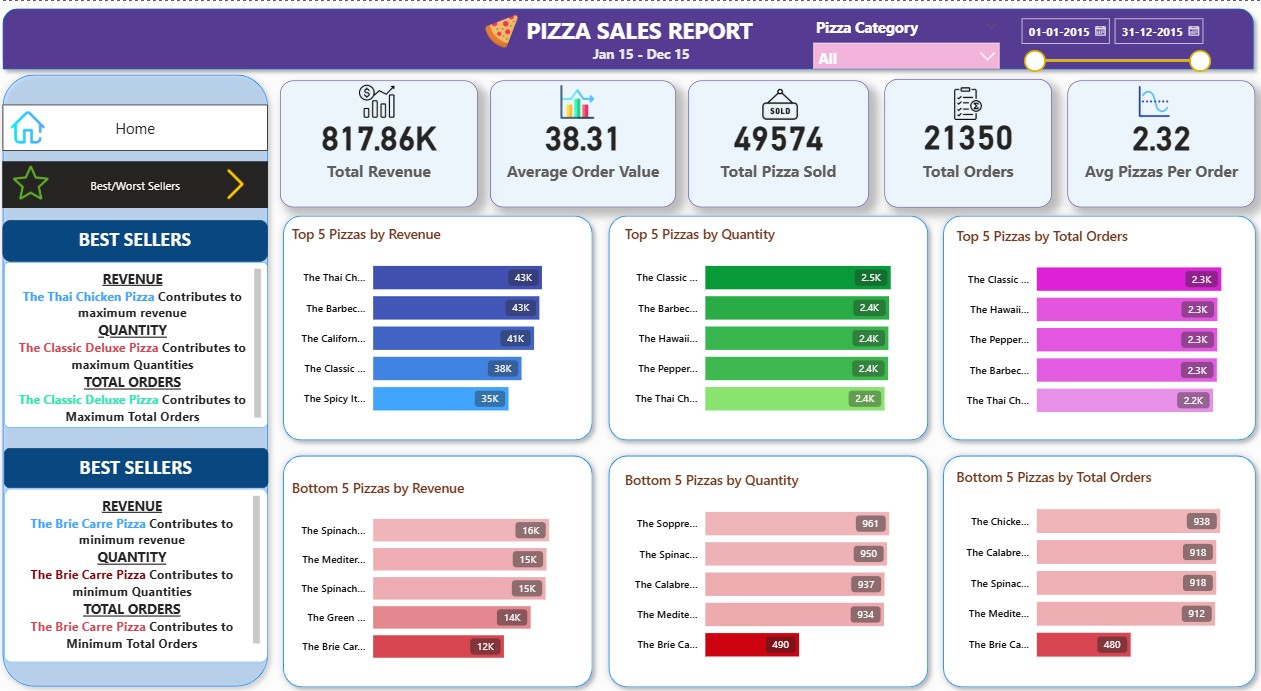

Layout of this report page (visuals, bound fields, positions):
{"tool":"powerbi","page":{"name":"Best/Worst Sellers","canvas":[1500,820],"ordinal":1},"visuals":[{"type":"shape","box":[0,78,332,742],"z":0},{"type":"card","title":"Total Revenue","fields":{"Values":["pizza_data.Total Revenue"]},"box":[338,94,234,150],"z":1000},{"type":"card","title":"Avg Order Value","fields":{"Values":["pizza_data.Average Order Value"]},"box":[586,94,220,150],"z":2000},{"type":"card","title":"Total Pizzas Sold","fields":{"Values":["pizza_data.Total Pizza Sold"]},"box":[820,94,214,150],"z":3000},{"type":"card","title":"Total Orders","fields":{"Values":["pizza_data.Total Orders"]},"box":[1052,92,198,152],"z":4000},{"type":"card","title":"Avg Pizzas Per Order","fields":{"Values":["pizza_data.Avg Pizzas Per Order"]},"box":[1268,94,222,150],"z":5000},{"type":"shape","box":[0,0,1498,90],"z":6000},{"type":"textbox","box":[382,10,762,74],"z":7000},{"type":"textbox","box":[688,46,152,42],"z":8000},{"type":"image","box":[388,92,126,52],"z":9000},{"type":"image","box":[606,94,164,50],"z":10000},{"type":"image","box":[862,96,132,52],"z":11000},{"type":"image","box":[1088,94,126,54],"z":12000},{"type":"image","box":[1298,90,148,56],"z":13000},{"type":"image","box":[542,10,116,50],"z":14000},{"type":"shape","box":[332,244,384,284],"z":15000},{"type":"textbox","box":[8,258.7,314,49.3],"z":16000},{"type":"textbox","box":[10,308,312,196],"z":17000},{"type":"textbox","box":[10,528.8,312.5,47.5],"z":18000},{"type":"textbox","box":[10,576,312,206],"z":19000},{"type":"slicer","fields":{"Values":["pizza_data.pizza_category"]},"box":[958,14,240,66],"z":20000},{"type":"slicer","fields":{"Values":["pizza_data.order_date"]},"box":[1201.7,10,245,78.3],"z":21000},{"type":"shape","box":[716,244,396,284],"z":22000},{"type":"shape","box":[1112,244,388,284],"z":23000},{"type":"shape","box":[332,528,384,292],"z":24000},{"type":"shape","box":[1112,528,388,292],"z":25000},{"type":"shape","box":[716,528,396,292],"z":26000},{"type":"barChart","title":"Top 5 Pizzas by Revenue","fields":{"Category":["pizza_data.pizza_name"],"Y":["pizza_data.Total Revenue"]},"box":[346,264,354,240],"z":27000},{"type":"barChart","title":"Bottom 5 Pizzas by Revenue","fields":{"Category":["pizza_data.pizza_name"],"Y":["pizza_data.Total Revenue"]},"box":[346,564,354,232],"z":28000},{"type":"barChart","title":"Top 5 Pizzas by Quantity","fields":{"Category":["pizza_data.pizza_name"],"Y":["pizza_data.Total Pizza Sold"]},"box":[740,264,348,240],"z":29000},{"type":"barChart","title":"Bottom 5 Pizzas by Quantity","fields":{"Category":["pizza_data.pizza_name"],"Y":["pizza_data.Total Pizza Sold"]},"box":[740,556,348,240],"z":30000},{"type":"barChart","title":"Top 5 Pizzas by Total Orders","fields":{"Category":["pizza_data.pizza_name"],"Y":["pizza_data.Total Orders"]},"box":[1132,266,348,240],"z":31000},{"type":"barChart","title":"Bottom 5 Pizzas by Total Orders","fields":{"Category":["pizza_data.pizza_name"],"Y":["pizza_data.Total Orders"]},"box":[1132,552,348,244],"z":32000},{"type":"pageNavigator","box":[8,190,314,55],"z":33000},{"type":"pageNavigator","box":[8,122,314,55],"z":34000},{"type":"image","box":[260.8,192.5,46.7,50],"z":35000},{"type":"image","box":[8,124,60,50],"z":36000},{"type":"image","box":[16,184,52,60],"z":37000}]}

Visuals, with their boxes in screenshot pixels (x1, y1, x2, y2), scaled from the page's 1500x820 canvas onto the 1261x691 screenshot:
shape: [x1=0, y1=66, x2=279, y2=690]
"Total Revenue" card: [x1=284, y1=79, x2=481, y2=206]
"Avg Order Value" card: [x1=493, y1=79, x2=678, y2=206]
"Total Pizzas Sold" card: [x1=689, y1=79, x2=869, y2=206]
"Total Orders" card: [x1=884, y1=78, x2=1051, y2=206]
"Avg Pizzas Per Order" card: [x1=1066, y1=79, x2=1253, y2=206]
shape: [x1=0, y1=0, x2=1259, y2=76]
textbox: [x1=321, y1=8, x2=962, y2=71]
textbox: [x1=578, y1=39, x2=706, y2=74]
image: [x1=326, y1=78, x2=432, y2=121]
image: [x1=509, y1=79, x2=647, y2=121]
image: [x1=725, y1=81, x2=836, y2=125]
image: [x1=915, y1=79, x2=1021, y2=125]
image: [x1=1091, y1=76, x2=1216, y2=123]
image: [x1=456, y1=8, x2=553, y2=51]
shape: [x1=279, y1=206, x2=602, y2=445]
textbox: [x1=7, y1=218, x2=271, y2=260]
textbox: [x1=8, y1=260, x2=271, y2=425]
textbox: [x1=8, y1=446, x2=271, y2=486]
textbox: [x1=8, y1=485, x2=271, y2=659]
slicer - pizza_data.pizza_category: [x1=805, y1=12, x2=1007, y2=67]
slicer - pizza_data.order_date: [x1=1010, y1=8, x2=1216, y2=74]
shape: [x1=602, y1=206, x2=935, y2=445]
shape: [x1=935, y1=206, x2=1260, y2=445]
shape: [x1=279, y1=445, x2=602, y2=690]
shape: [x1=935, y1=445, x2=1260, y2=690]
shape: [x1=602, y1=445, x2=935, y2=690]
"Top 5 Pizzas by Revenue" barChart: [x1=291, y1=222, x2=588, y2=425]
"Bottom 5 Pizzas by Revenue" barChart: [x1=291, y1=475, x2=588, y2=671]
"Top 5 Pizzas by Quantity" barChart: [x1=622, y1=222, x2=915, y2=425]
"Bottom 5 Pizzas by Quantity" barChart: [x1=622, y1=469, x2=915, y2=671]
"Top 5 Pizzas by Total Orders" barChart: [x1=952, y1=224, x2=1244, y2=426]
"Bottom 5 Pizzas by Total Orders" barChart: [x1=952, y1=465, x2=1244, y2=671]
pageNavigator: [x1=7, y1=160, x2=271, y2=206]
pageNavigator: [x1=7, y1=103, x2=271, y2=149]
image: [x1=219, y1=162, x2=259, y2=204]
image: [x1=7, y1=104, x2=57, y2=147]
image: [x1=13, y1=155, x2=57, y2=206]
